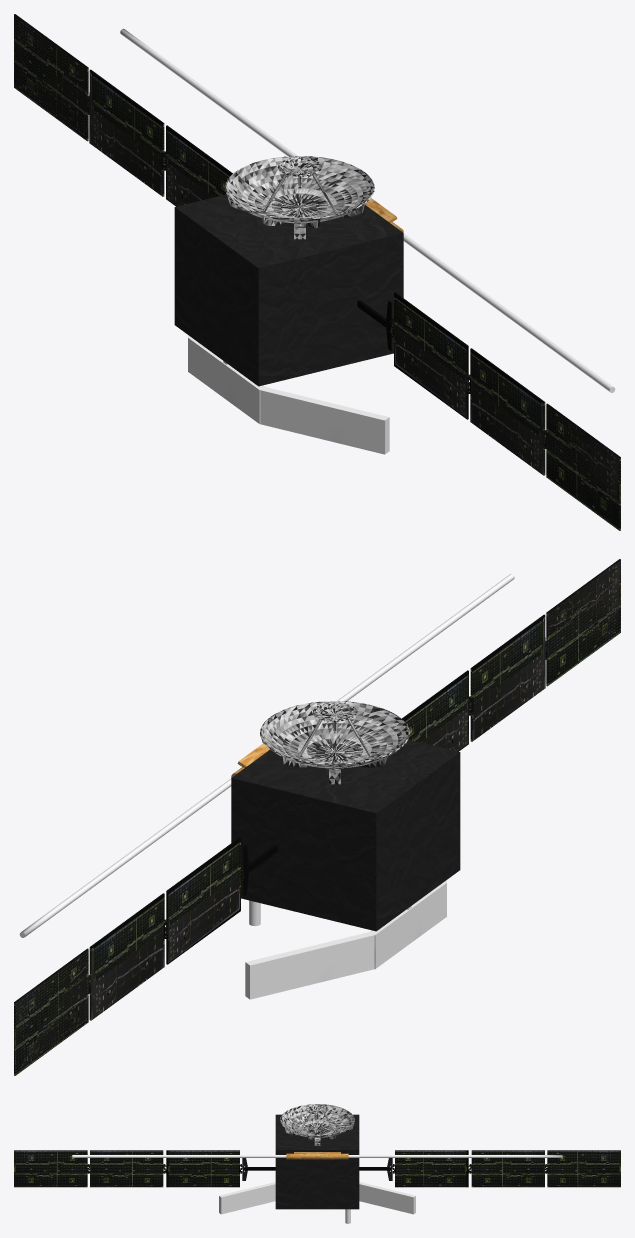
Rendered from envision.obj.
3 views of the same model, one above another, from view 1: azimuth 30°, elevation 25°; view 2: azimuth 150°, elevation 25°; view 3: azimuth 270°, elevation 25° (orthographic). The views are drawn at different scales.
Visible parts, largest first — view 1: bus_Cube, sa-y_sa+y_PIEZASNOUVS_polySurface2_smart1.002, sa+y_sa+y_PIEZASNOUVS_polySurface2_smart1.000; view 2: bus_Cube, sa+y_sa+y_PIEZASNOUVS_polySurface2_smart1.000, sa-y_sa+y_PIEZASNOUVS_polySurface2_smart1.002; view 3: bus_Cube, sa-y_sa+y_PIEZASNOUVS_polySurface2_smart1.002, sa+y_sa+y_PIEZASNOUVS_polySurface2_smart1.000.
Boxes of the visible parts, box(x1,y1,x2,y2) form: bus_Cube: box(120, 28, 615, 454); sa-y_sa+y_PIEZASNOUVS_polySurface2_smart1.002: box(357, 292, 620, 530); sa+y_sa+y_PIEZASNOUVS_polySurface2_smart1.000: box(14, 14, 232, 206); bus_Cube: box(19, 573, 514, 999); sa+y_sa+y_PIEZASNOUVS_polySurface2_smart1.000: box(14, 837, 277, 1075); sa-y_sa+y_PIEZASNOUVS_polySurface2_smart1.002: box(402, 559, 620, 751); bus_Cube: box(72, 1104, 562, 1223); sa-y_sa+y_PIEZASNOUVS_polySurface2_smart1.002: box(14, 1150, 275, 1187); sa+y_sa+y_PIEZASNOUVS_polySurface2_smart1.000: box(359, 1150, 620, 1187).
Bounding box in the file's own units: 2.17 × 2.81 × 14.45.
